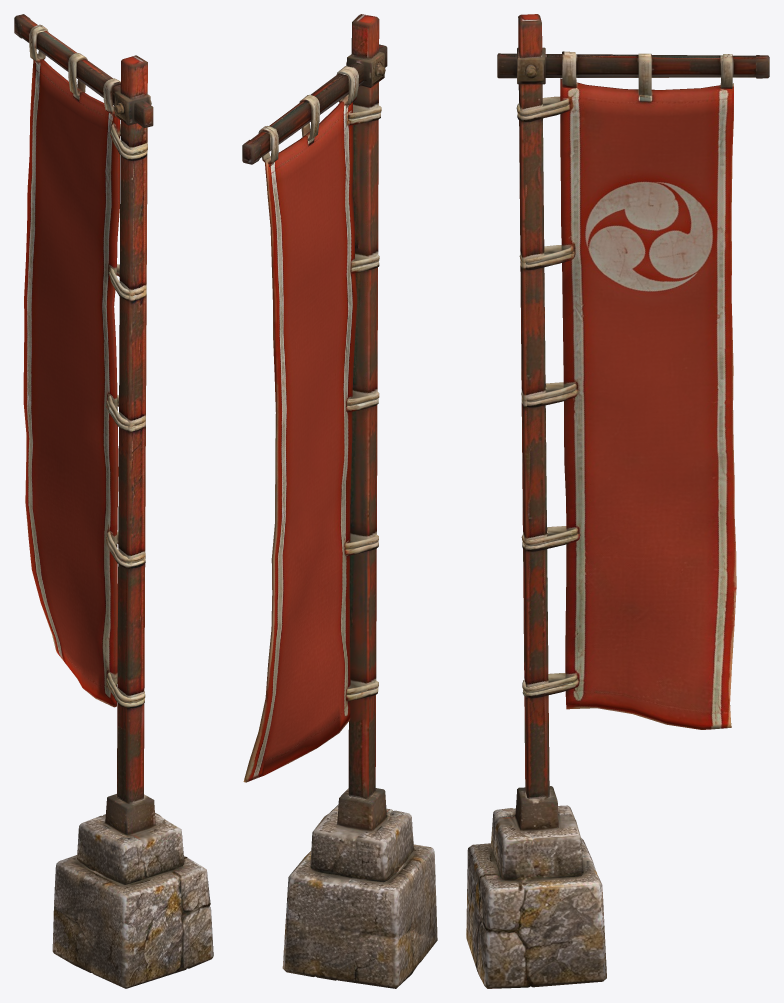
Rendered from nobori.glb.
The picture shows the model from 3 angles, left to right: view 1: azimuth 30°, elevation 25°; view 2: azimuth 150°, elevation 25°; view 3: azimuth 270°, elevation 25°; orthographic projection. The views are drawn at different scales.
Visible parts, largest first — view 1: tripo_node_a5cb1a34-bb62-4c4d-b5b8-8a6d055172a0; view 2: tripo_node_a5cb1a34-bb62-4c4d-b5b8-8a6d055172a0; view 3: tripo_node_a5cb1a34-bb62-4c4d-b5b8-8a6d055172a0.
Boxes of the visible parts, x1,y1,x2,y2 form: tripo_node_a5cb1a34-bb62-4c4d-b5b8-8a6d055172a0: (14, 14, 213, 988); tripo_node_a5cb1a34-bb62-4c4d-b5b8-8a6d055172a0: (242, 14, 437, 988); tripo_node_a5cb1a34-bb62-4c4d-b5b8-8a6d055172a0: (466, 14, 769, 988).
Size of the model in its own units: 0.1353 by 0.9995 by 0.2915.
Materials: 1 (1 with a texture image).
